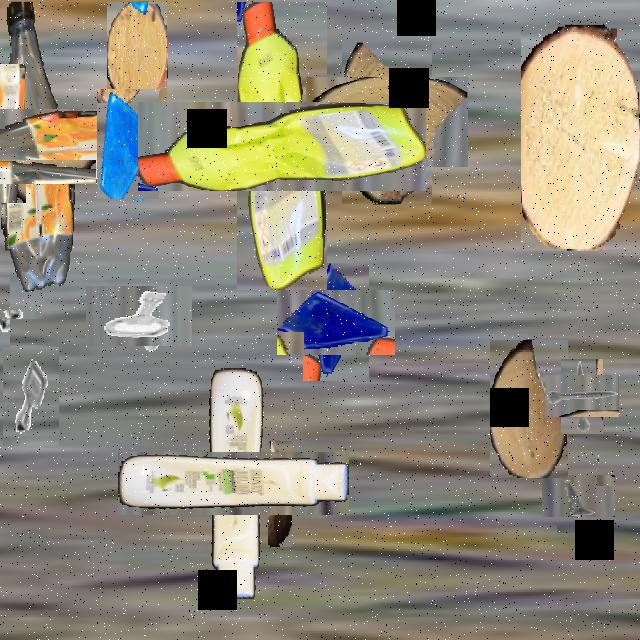glass: (290, 276, 382, 368), (97, 89, 159, 199)
metal: (97, 275, 181, 358), (3, 347, 59, 446), (553, 367, 611, 426), (549, 467, 607, 525), (0, 293, 26, 335)
plastic: (188, 52, 376, 240), (0, 55, 130, 237), (160, 410, 308, 557)
wood: (521, 25, 640, 249), (324, 59, 450, 186), (490, 340, 568, 478), (107, 2, 167, 105), (0, 92, 54, 174), (268, 441, 292, 547)
